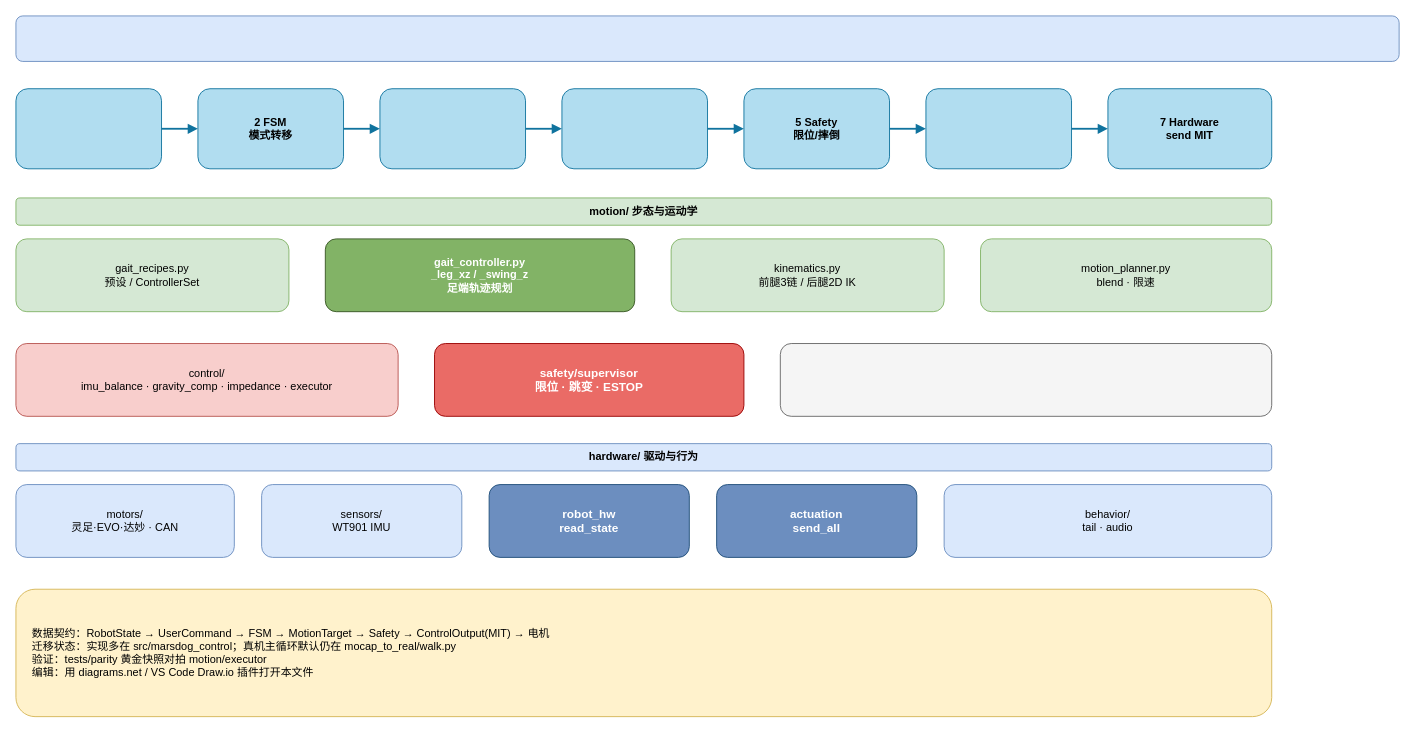
Image size: 1415x733. Some labels were removed from this diagram. The box of each missing label's shape, as (x1, y1, x2, y2) in pixels:
1 Input poll 命令: (15, 88, 162, 169)
3 Balance IMU 调平: (379, 88, 526, 169)
4 Motion 足端轨迹+IK: (561, 88, 708, 169)
6 Executor 增益+前馈: (925, 88, 1072, 169)
Marsdog Control 程序框架 | marsdog_control + mocap_to_real: (15, 15, 1399, 61)
预留 backends/ · policies/ 仿真 · 回放 · RL（未实现）: (779, 343, 1272, 416)
